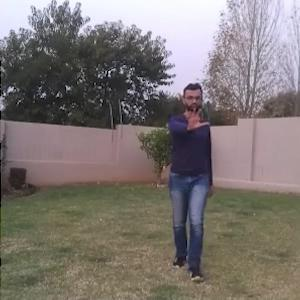follow_hand: (183, 103, 210, 132)
